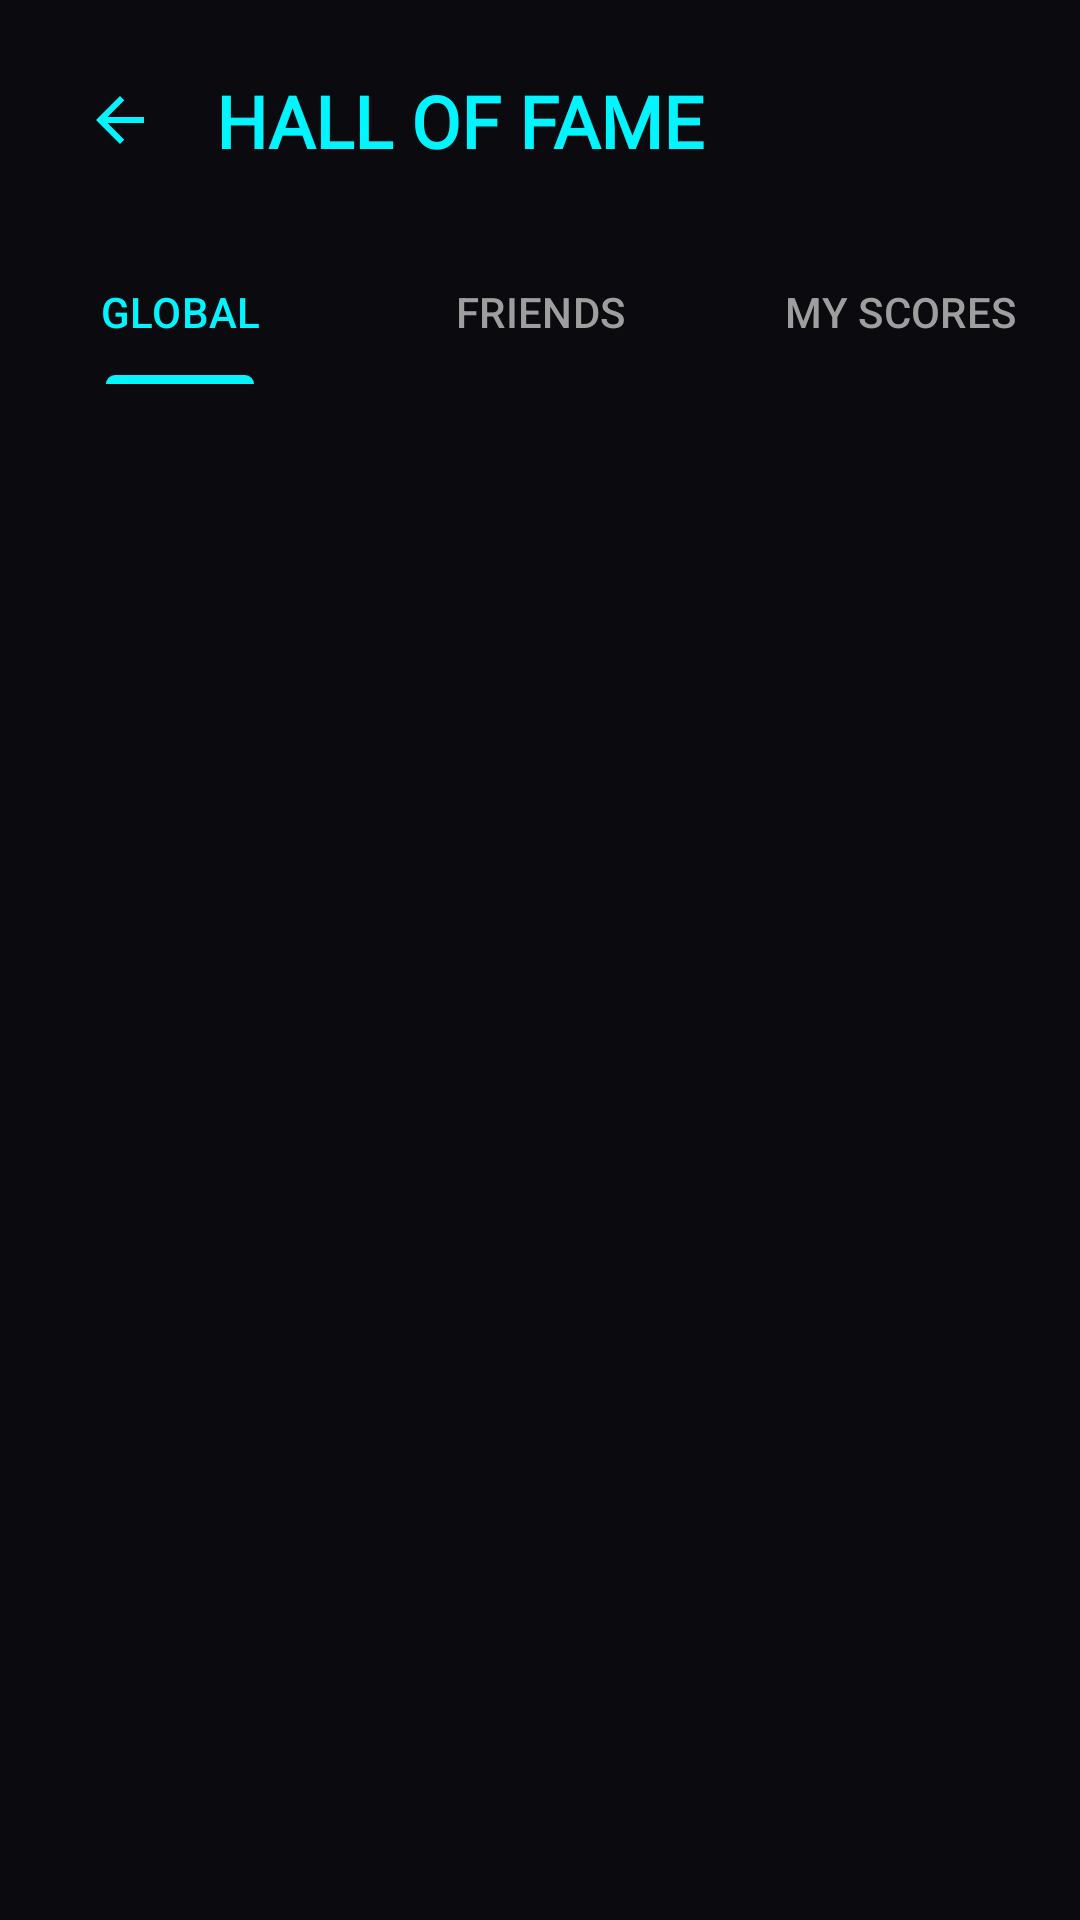

Screen size 1080 x 1920. Icon name, then its center in pixels as point (x, y):
Quay lại: point (120, 120)
